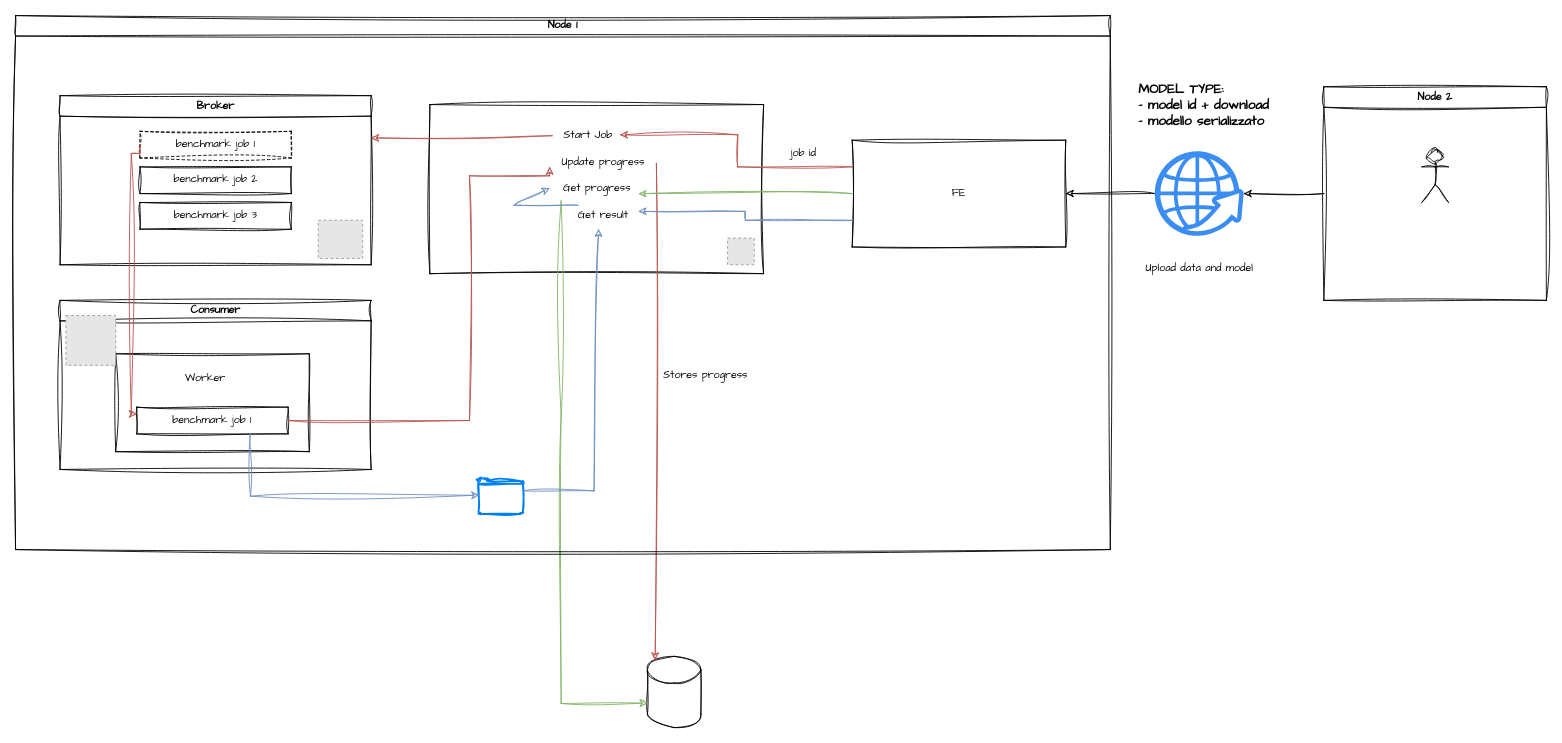
The diagram is 1562 pixels wide and 743 high, and some of its shapes have lost their labels. Grey dashed boxes stand in for pictures. The shapes that lost their labels are listed below. From the top down, each one's centre as x and y in pixels, then its label:
the point at 1434,175: Actor
the point at 500,495: output - id
the point at 674,691: DB
